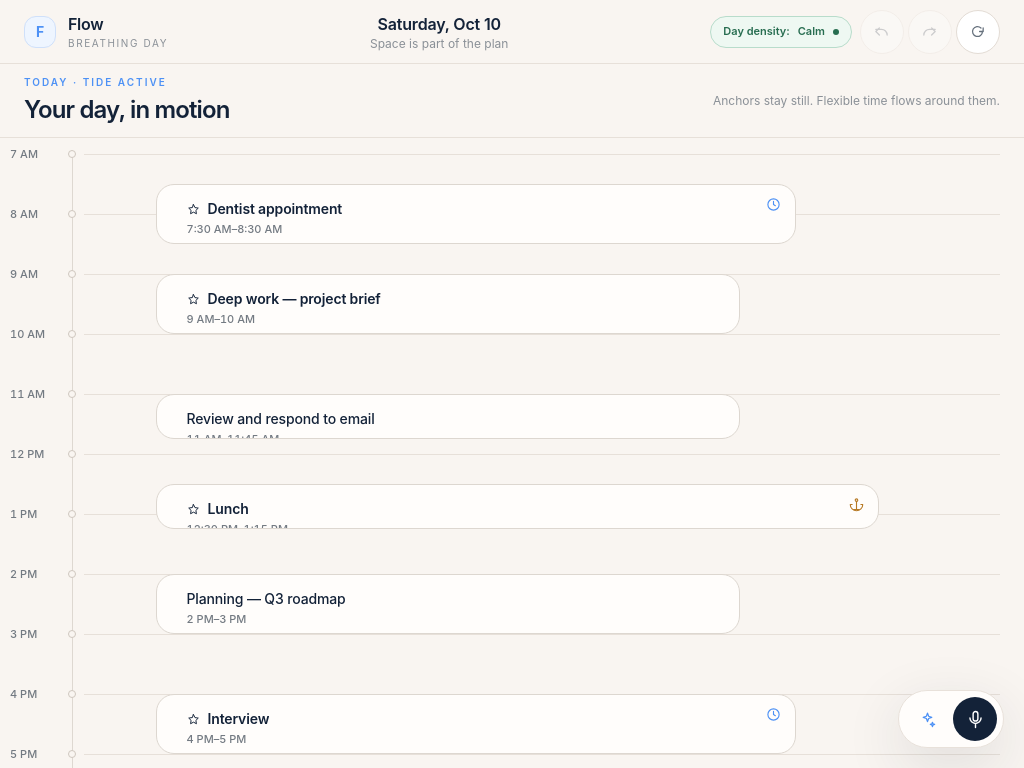
Test case: FlowPlannerScreen › shows exact natural-source geometry when asked what changed
The width and height of the screenshot is (1024, 768).
Click the button named "Open Flow command" at coordinates (927, 719), box [905,697,949,741]
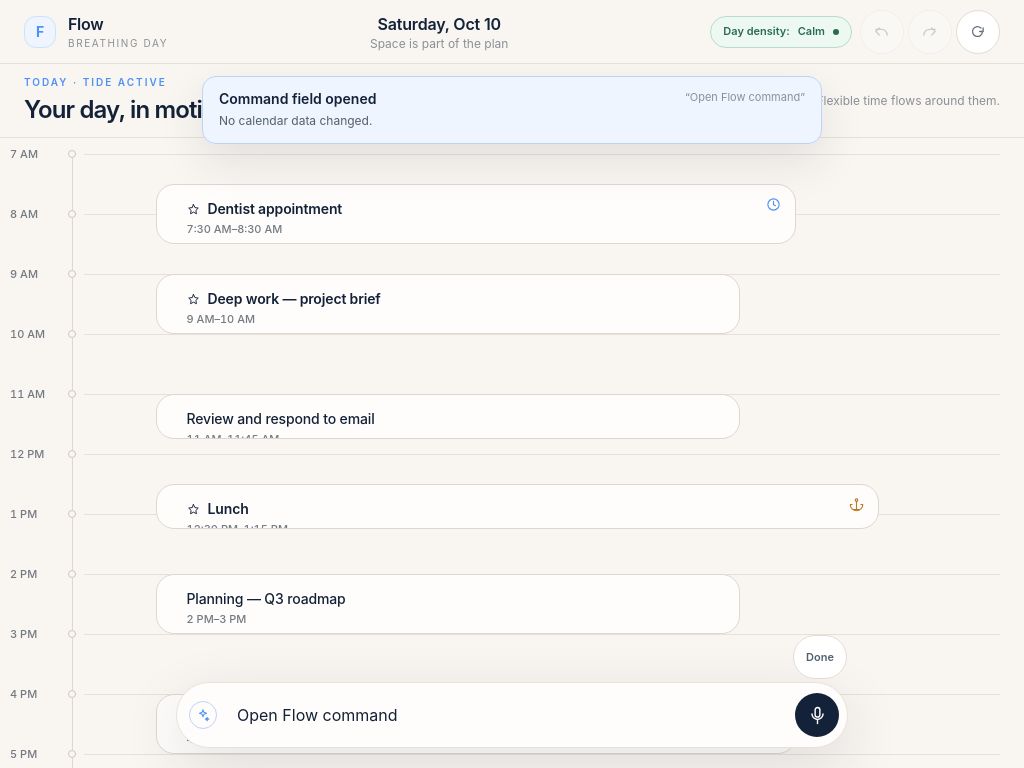
Replace the text in the field named "Tell Flow what to change" with "Move the 2 PM meeting to three" at coordinates (506, 715), box [225,703,787,727]
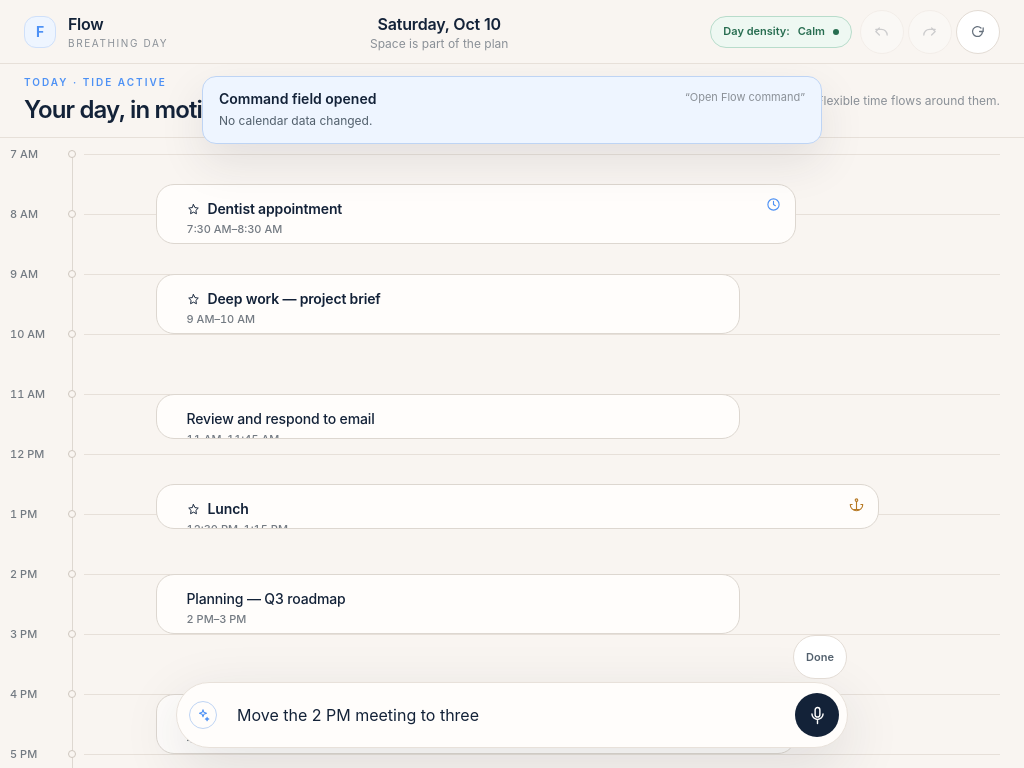
Submit the form named "Tell Flow what to change", box [185,691,839,739]
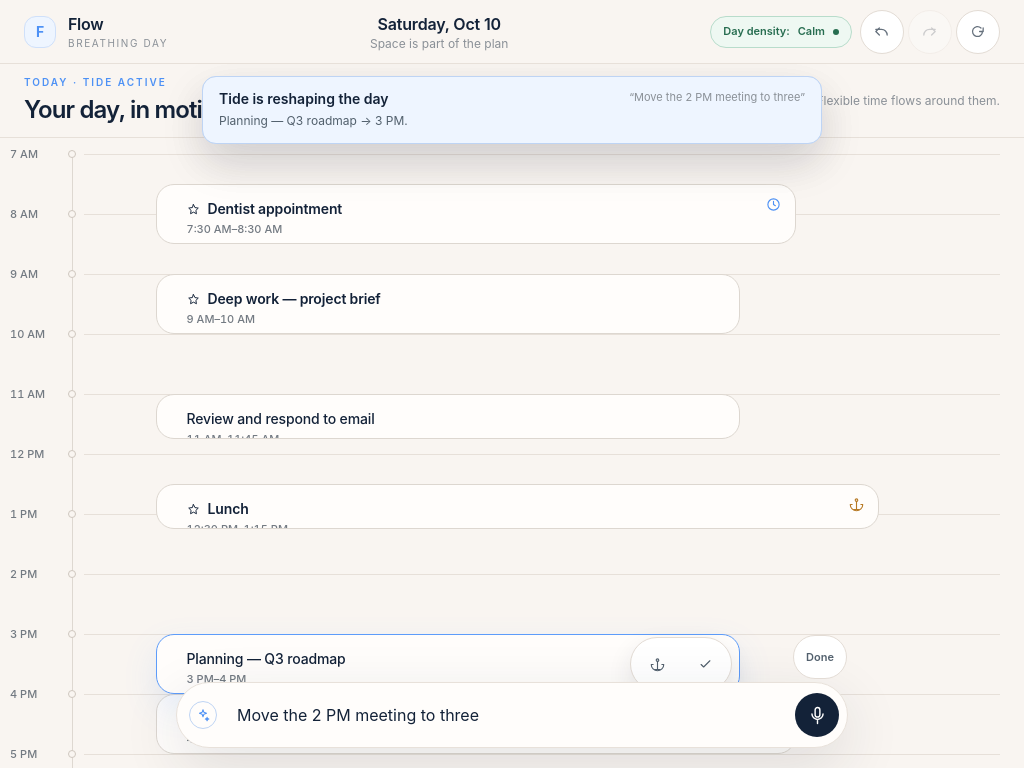
Replace the text in the field named "Tell Flow what to change" with "What changed?" at coordinates (506, 715), box [225,703,787,727]
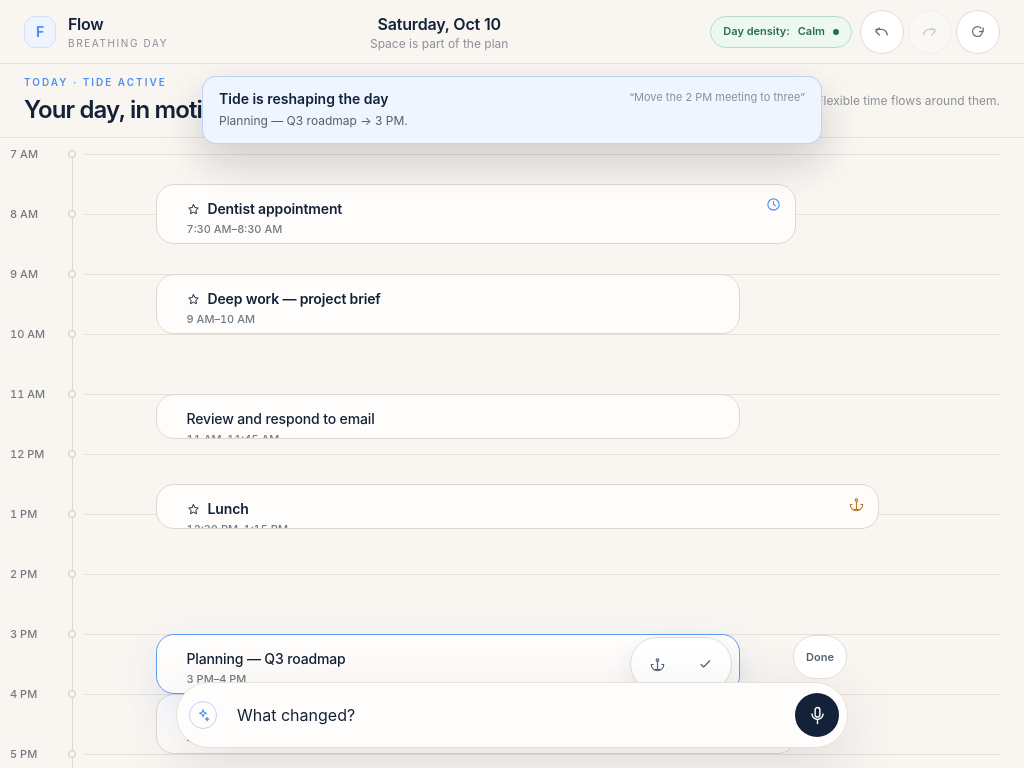
Submit the form named "Tell Flow what to change", box [185,691,839,739]
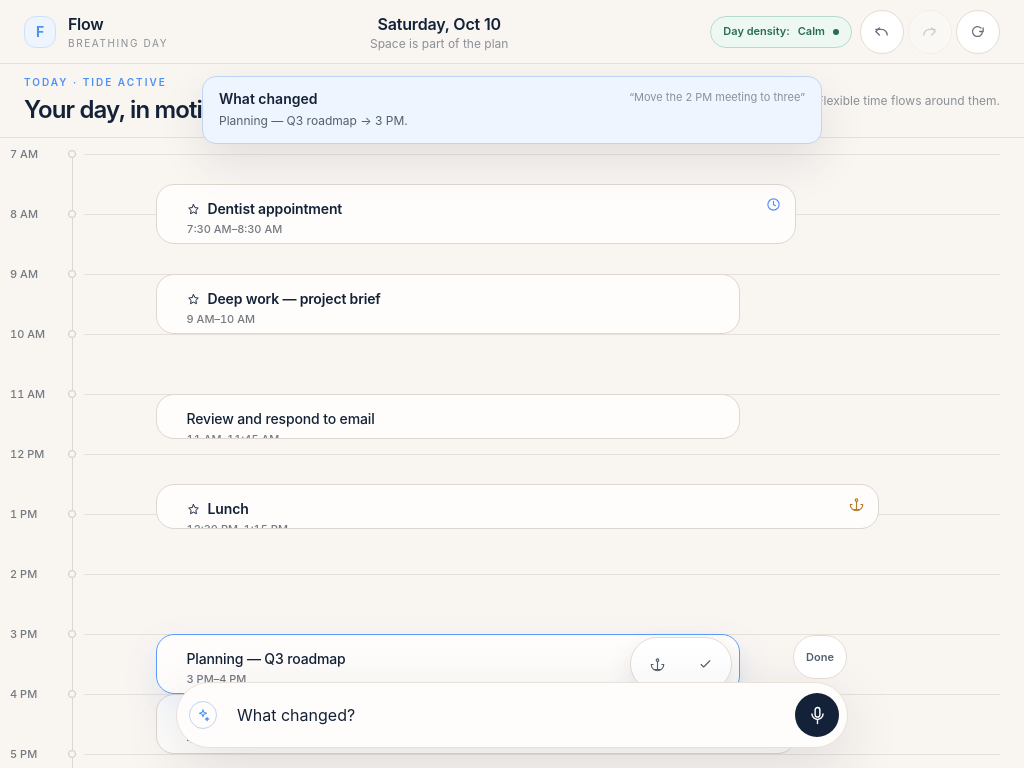
Now the heading "What changed" is shown, box [219,90,318,107]
